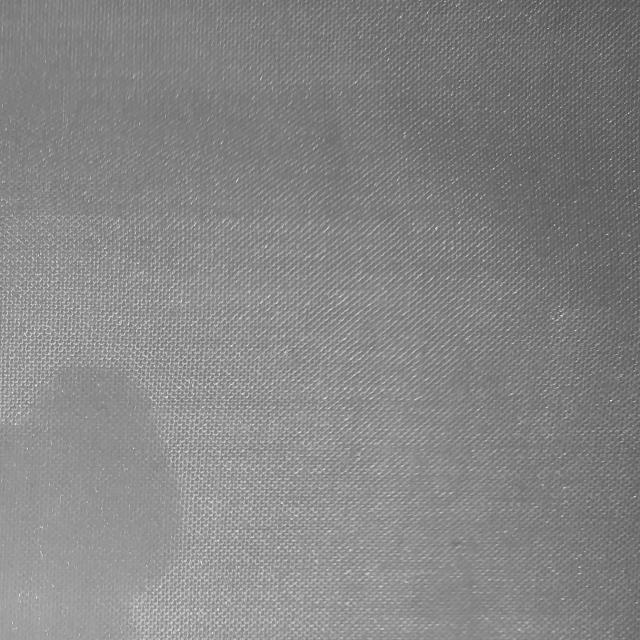Stain: (0, 367, 180, 639)
